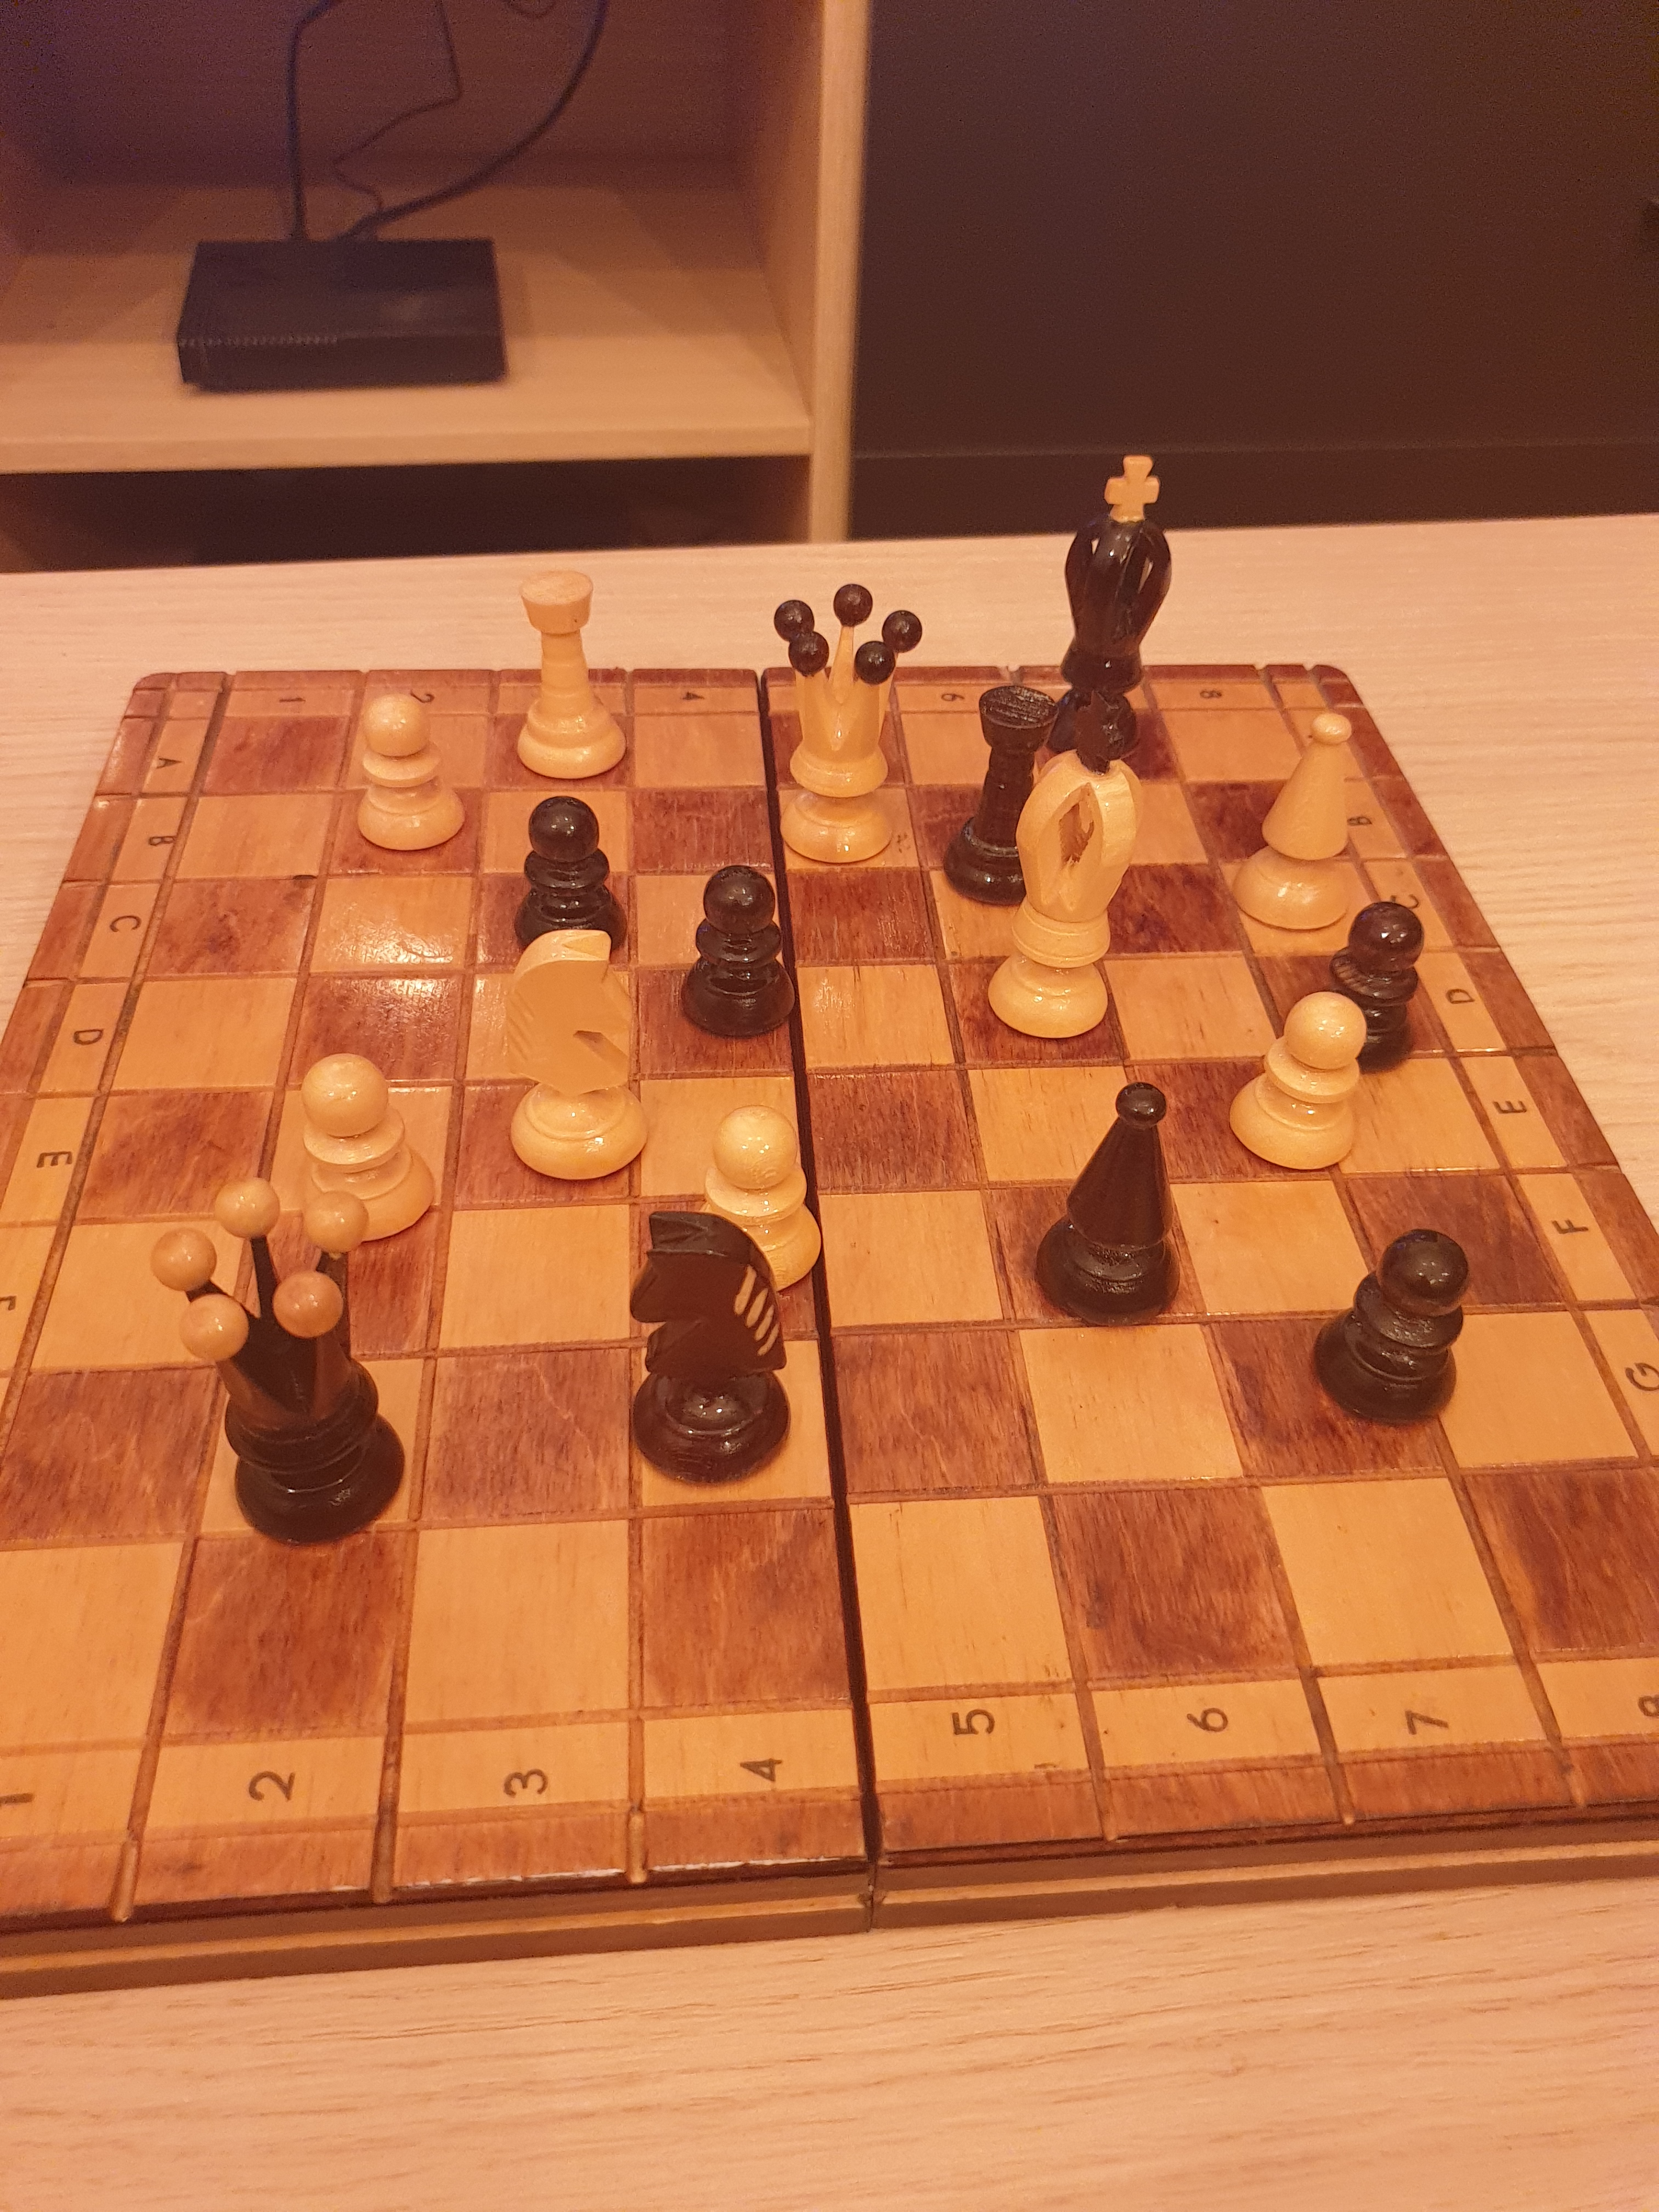bbishop: (1016, 1073, 1190, 1357)
bking: (1042, 444, 1187, 772)
bknight: (617, 1200, 800, 1494)
bpawn: (1297, 1202, 1481, 1446), (490, 770, 652, 991), (662, 840, 819, 1059), (1312, 895, 1434, 1080)
bqueen: (150, 1167, 439, 1552)
brook: (938, 679, 1072, 918)
wbishop: (1222, 705, 1373, 942)
wking: (983, 681, 1155, 1055)
wknight: (495, 921, 660, 1195)
wpawn: (275, 1047, 467, 1256), (688, 1101, 847, 1313), (1218, 984, 1377, 1193), (347, 683, 471, 873)
wqueen: (763, 573, 929, 876)
wrook: (507, 557, 636, 789)
